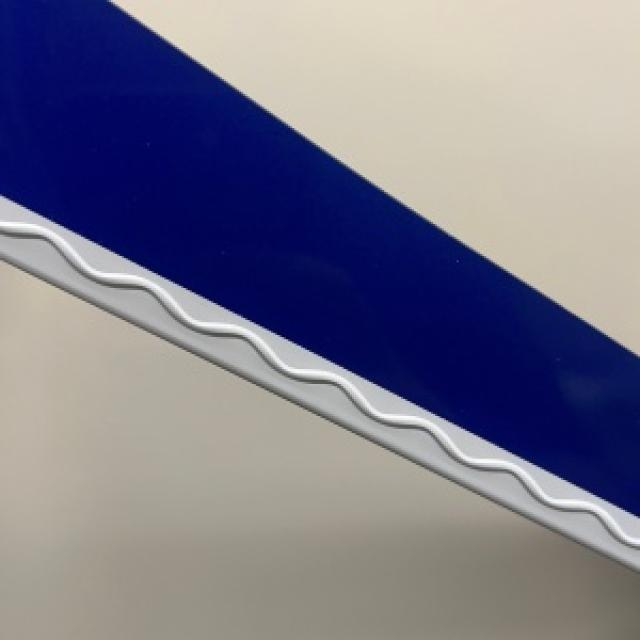healthy: (0, 260, 638, 638)
